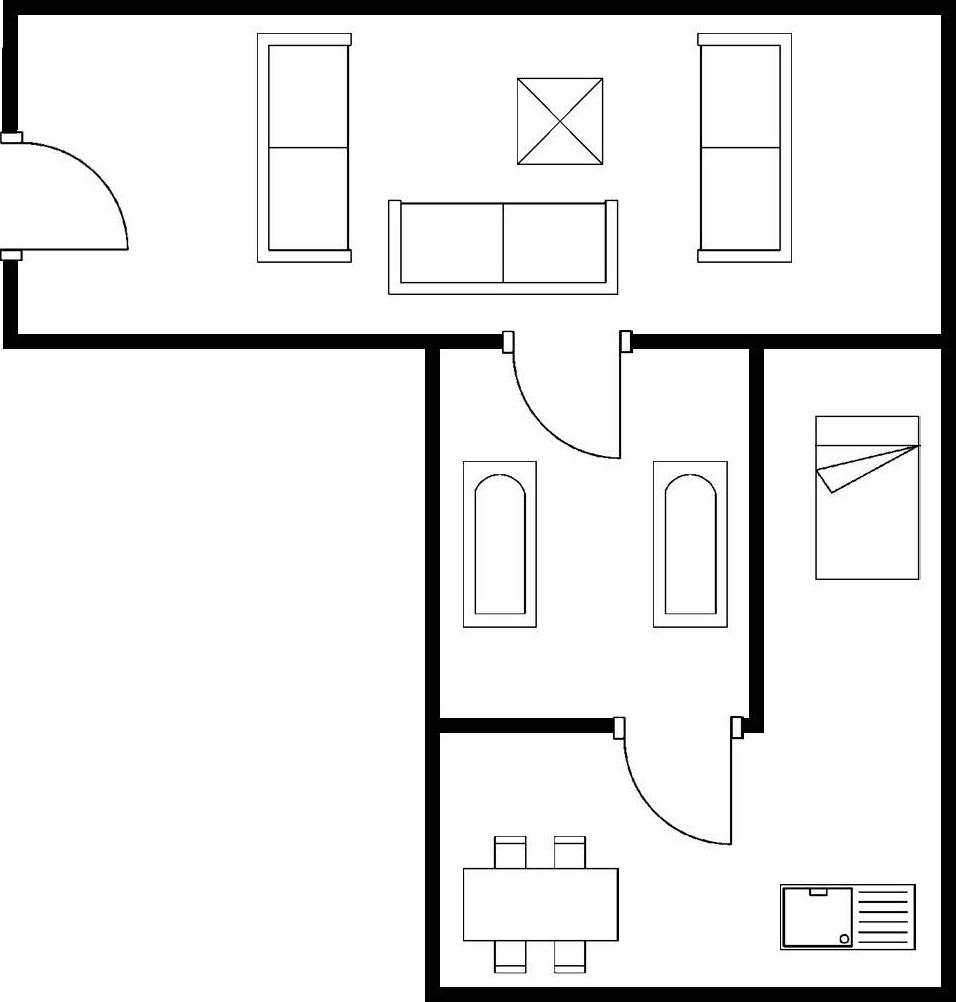bed: (811, 408, 922, 586)
dining_table: (456, 831, 624, 979)
sink: (775, 878, 920, 956)
sofa: (688, 26, 798, 268), (252, 27, 354, 269), (381, 196, 622, 297)
tub: (645, 456, 733, 633), (456, 455, 541, 634)
